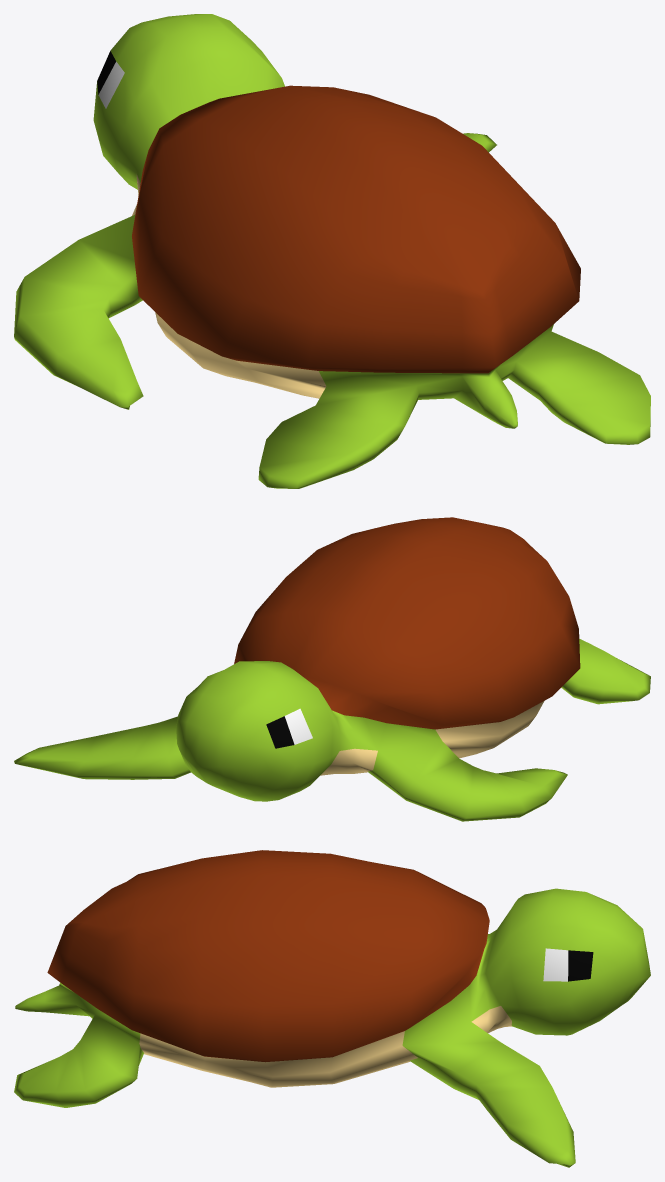
File: turtle_model.fbx
3 views of the same model, one above another, from view 1: azimuth 30°, elevation 25°; view 2: azimuth 150°, elevation 25°; view 3: azimuth 270°, elevation 25° (orthographic). The views are drawn at different scales.
Parts seen in each view (by area): view 1: turtle_base1; view 2: turtle_base1; view 3: turtle_base1.
Part boxes in pixels (<box>): turtle_base1: <box>14,14,650,488</box>; turtle_base1: <box>14,517,650,821</box>; turtle_base1: <box>14,850,650,1167</box>.
Bounding box in the file's own units: 355 × 145 × 434.
